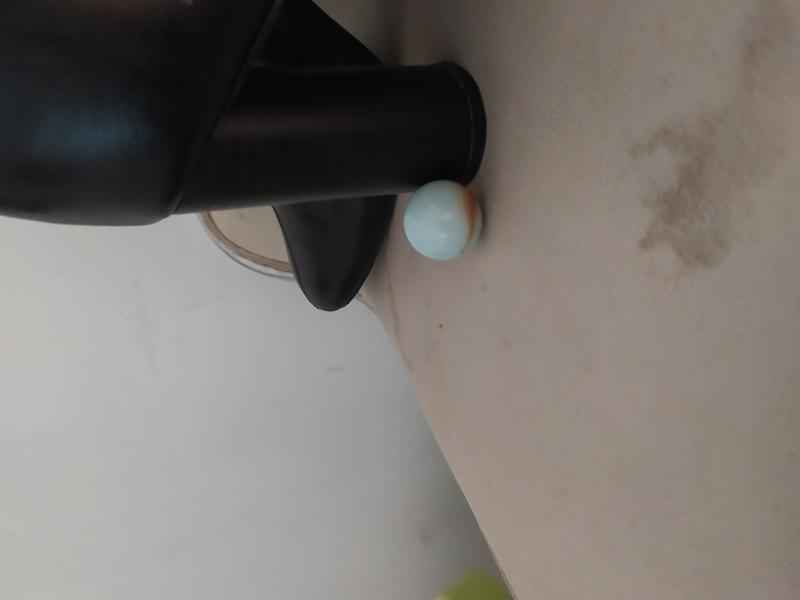Warning: (400, 177, 485, 263)
